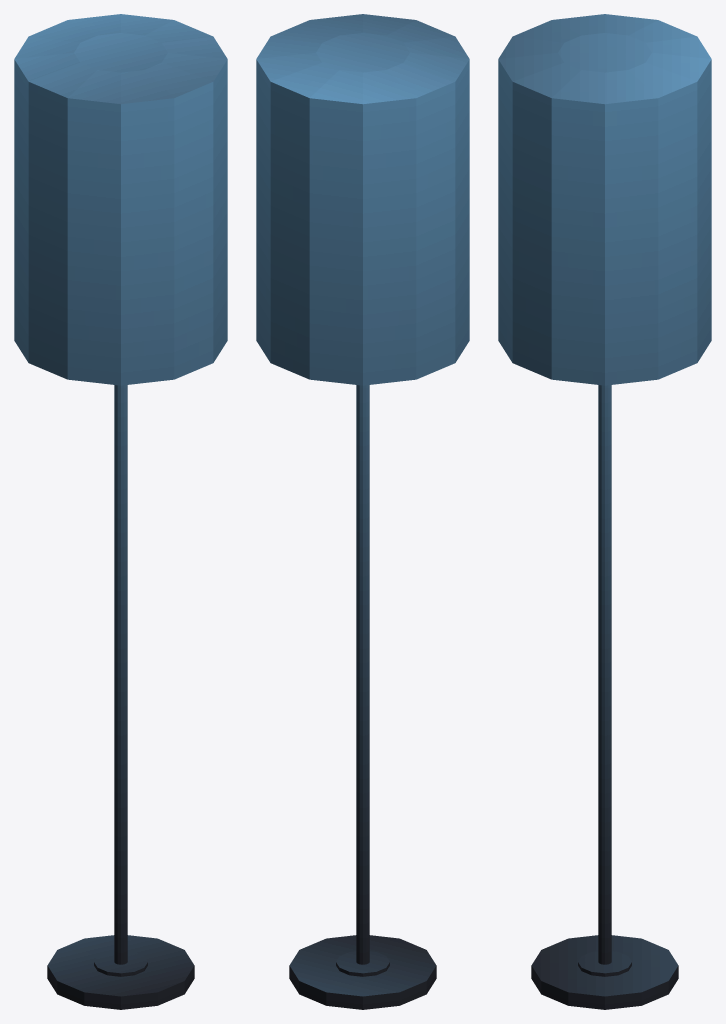
Rendered from lamp.fbx.
3 views of the same model, side by side, from view 1: azimuth 30°, elevation 25°; view 2: azimuth 150°, elevation 25°; view 3: azimuth 270°, elevation 25° (orthographic).
Visible parts, largest first — view 1: Lamp; view 2: Lamp; view 3: Lamp.
Boxes of the visible parts, x1,y1,x2,y2 form: Lamp: [14, 14, 227, 1009]; Lamp: [256, 14, 469, 1009]; Lamp: [498, 14, 711, 1009].
Size of the model in its own units: 308 by 1474 by 308.
